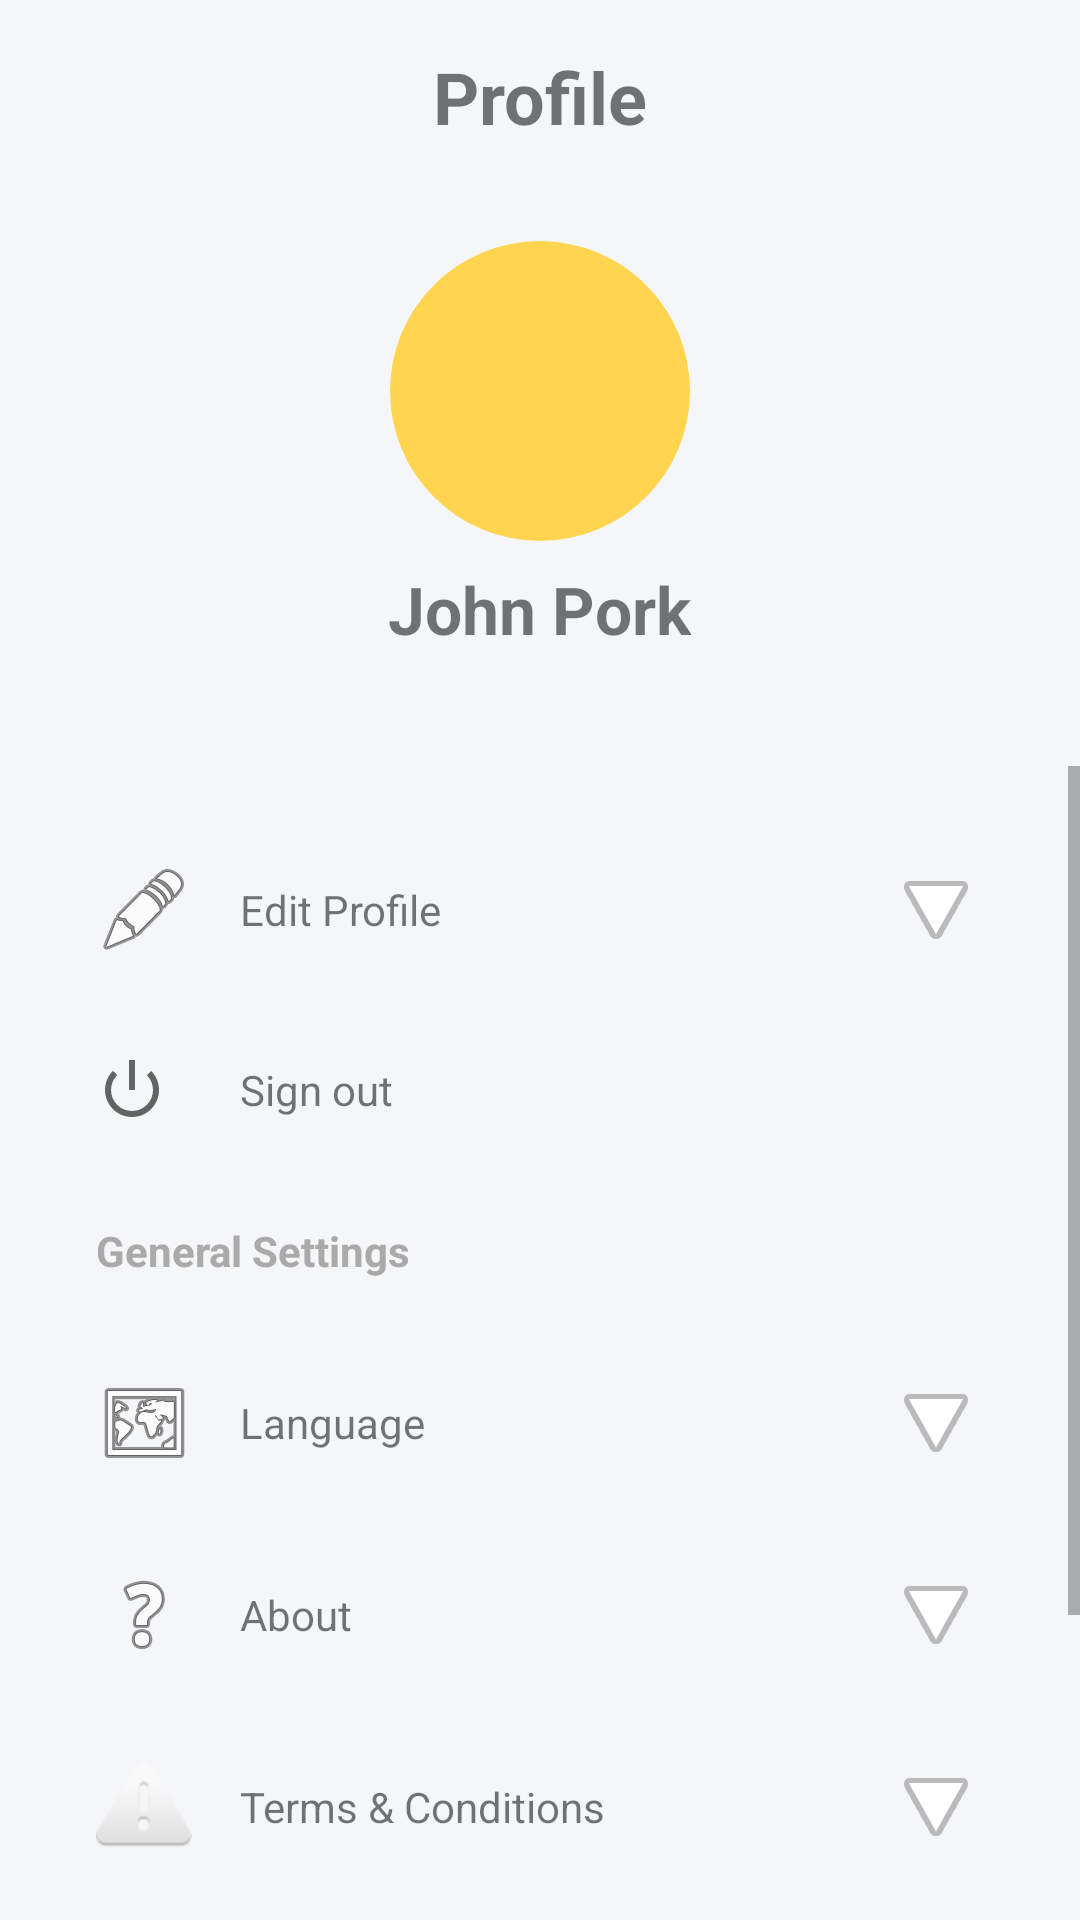

Point at icon controls on the screen. Image size 1080x1920, points as [x,y].
alert: [143,1814]
help: [144,1615]
lock power off: [132,1088]
mapmode: [144,1423]
